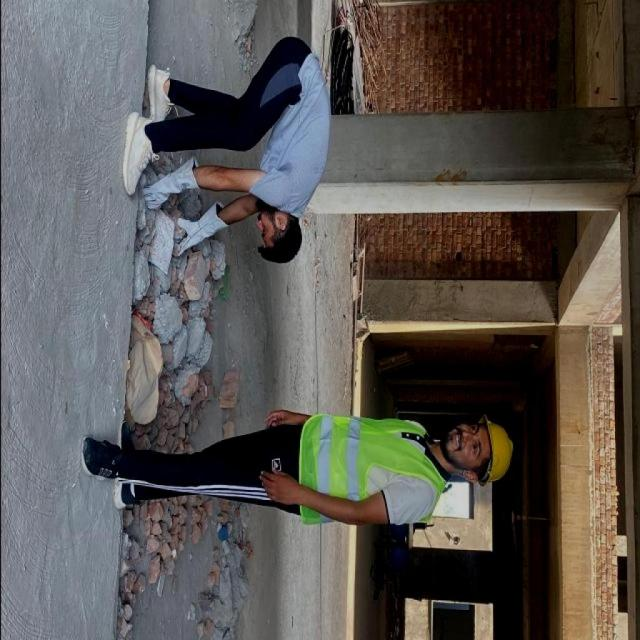Gloves-Detection: (178, 206, 224, 251), (144, 174, 203, 201)
